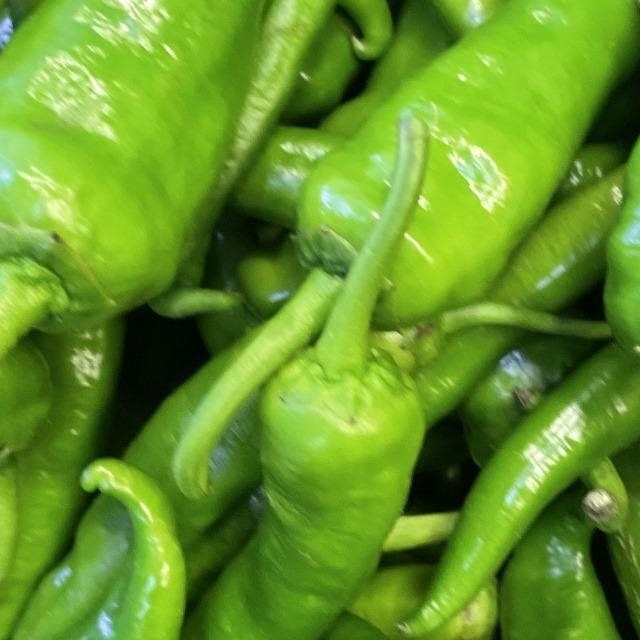chili_pepper: (0, 0, 362, 422)
